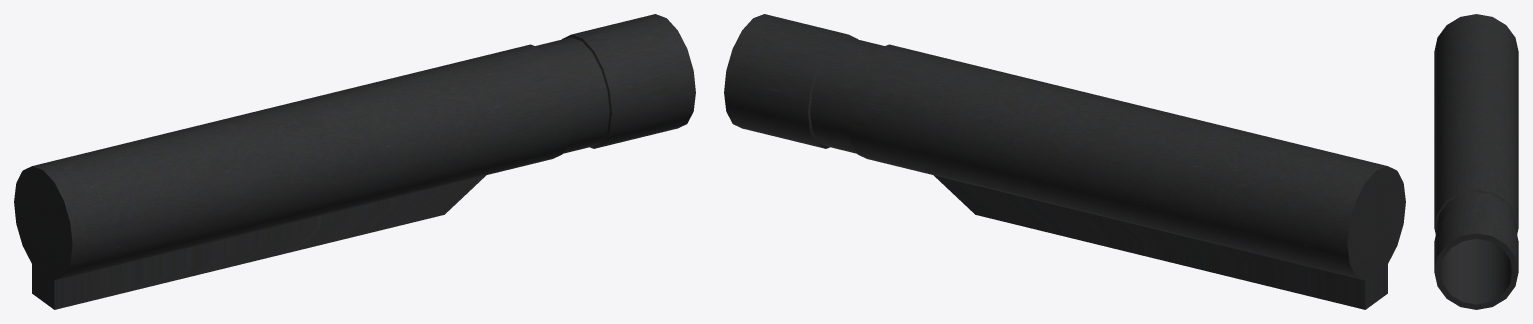
File: Lower_Receiver_Extension.dae
3 renders of one model, left to right at view 1: azimuth 30°, elevation 25°; view 2: azimuth 150°, elevation 25°; view 3: azimuth 270°, elevation 25°, orthographic. The views are drawn at different scales.
Parts seen in each view (by area): view 1: Lower_Receiver_Extension; view 2: Lower_Receiver_Extension; view 3: Lower_Receiver_Extension.
Part boxes in pixels (left/top/right/bottom): Lower_Receiver_Extension: left=14, top=14, right=695, bottom=309; Lower_Receiver_Extension: left=724, top=14, right=1405, bottom=309; Lower_Receiver_Extension: left=1434, top=14, right=1518, bottom=309.
Bounding box in the file's own units: 0.1766 × 0.0287 × 0.0356.
Materials: 1 (1 with a texture image).
